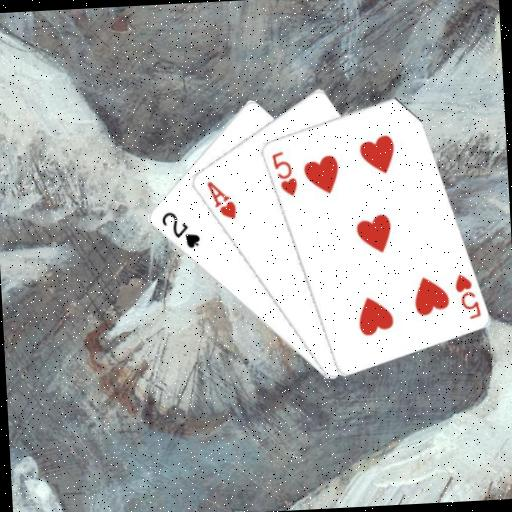2S: (158, 207, 203, 252)
5H: (451, 269, 484, 322), (267, 147, 299, 198)
AH: (203, 177, 238, 223)
